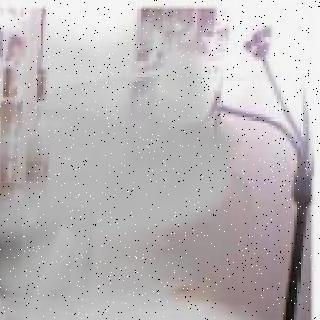smoke: (0, 39, 302, 320)
